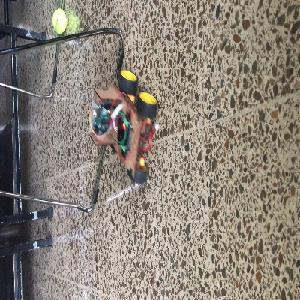Ball: (52, 9, 65, 33)
Robot: (89, 69, 152, 183)
